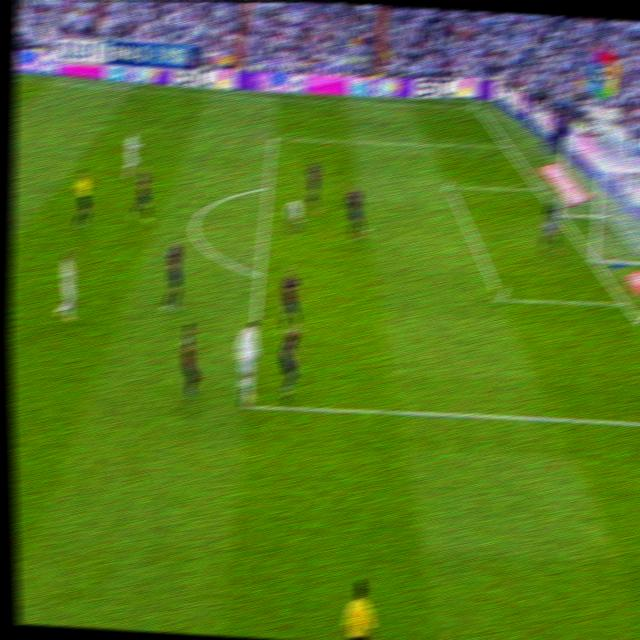bigarea_bottom_inner: (493, 285, 508, 311)
bigarea_top_inner: (443, 179, 455, 195)
corner: (468, 100, 482, 111)
smallarea_top_outter: (532, 179, 543, 196)
